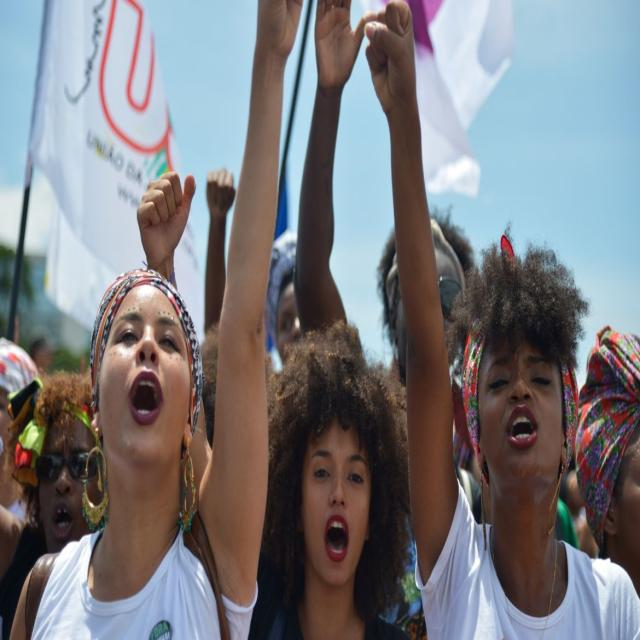sem_oculos: (471, 330, 578, 401), (93, 299, 197, 363), (304, 433, 372, 496), (34, 426, 102, 489)
